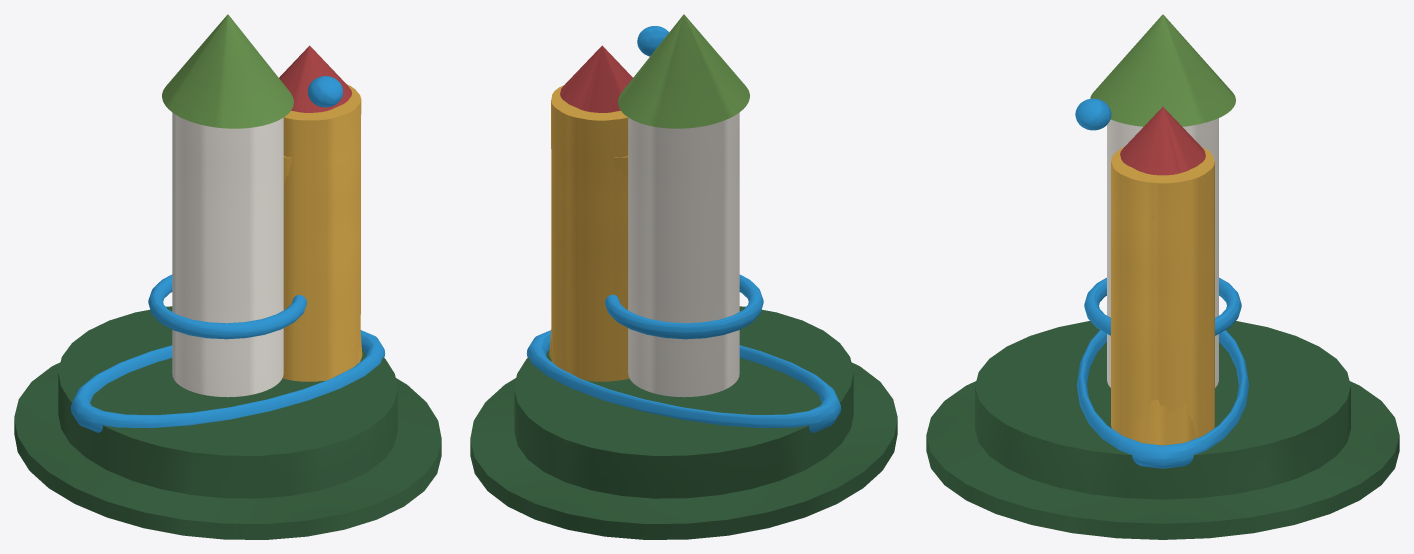
The model's file is 0653_史前人类图鉴_南方古猿脚印化石.glb.
3 views of the same model, side by side, from view 1: azimuth 30°, elevation 25°; view 2: azimuth 150°, elevation 25°; view 3: azimuth 270°, elevation 25° (orthographic).
Visible parts, largest first — view 1: card_0653; view 2: card_0653; view 3: card_0653.
Boxes of the visible parts, x1=… form: card_0653: x1=14, y1=14, x2=441, y2=539; card_0653: x1=470, y1=14, x2=897, y2=539; card_0653: x1=926, y1=14, x2=1399, y2=539.
Size of the model in its own units: 0.8719 by 1 by 0.9812.
